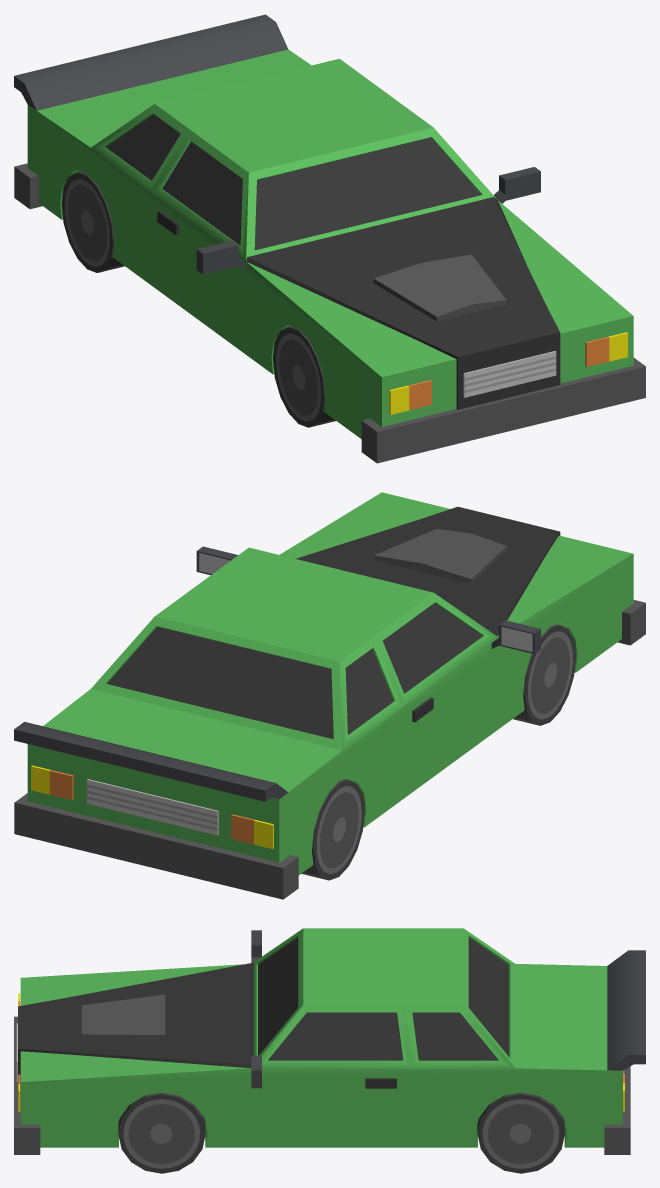
Rendered from sportsCar01_color02.fbx.
3 renders of one model, top to bottom at view 1: azimuth 30°, elevation 25°; view 2: azimuth 150°, elevation 25°; view 3: azimuth 270°, elevation 25°, orthographic. The views are drawn at different scales.
Parts seen in each view (by area): view 1: Cube.469, Cube.470, Cube.473; view 2: Cube.469, Cube.473, Cube.470; view 3: Cube.469, Cube.471, Cube.472.
Part boxes in pixels (x1,y1,x2,y2): Cube.469: (14,14,645,463); Cube.470: (273,326,335,427); Cube.473: (61,171,124,272); Cube.469: (14,492,645,899); Cube.473: (301,779,364,880); Cube.470: (513,624,575,725); Cube.469: (14,928,645,1154); Cube.471: (477,1092,564,1173); Cube.472: (118,1092,205,1173).
Bounding box in the file's own units: 269 × 138 × 512.
